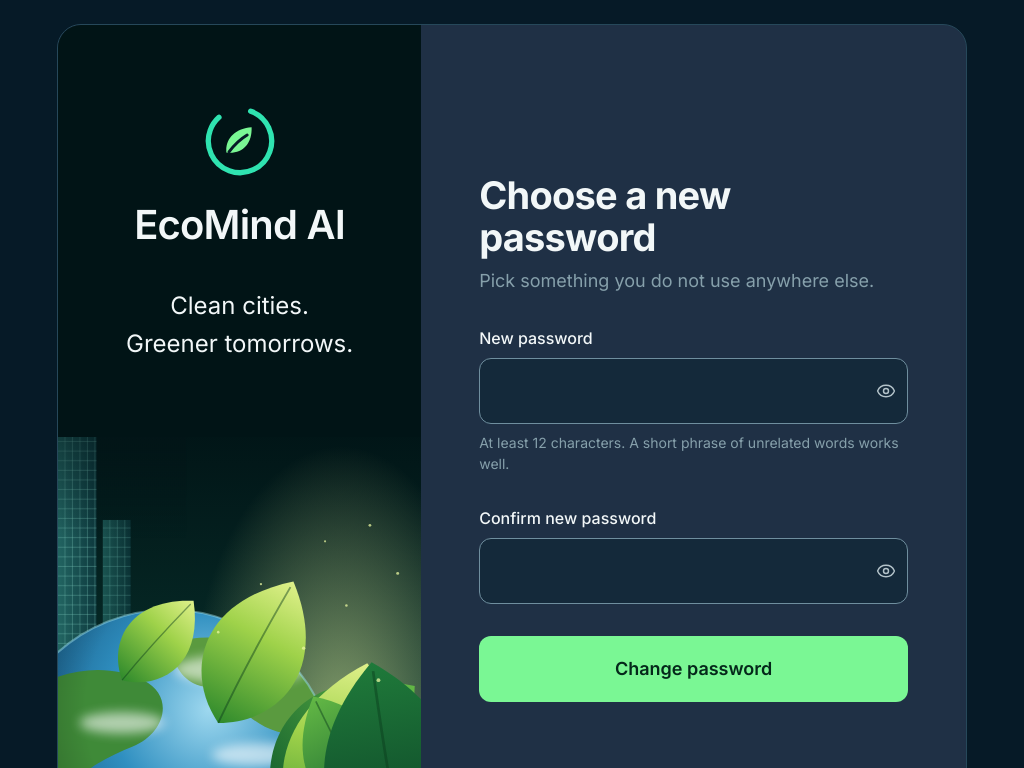
reset password › reads the token from the fragment, removes it from the address bar and submits the new password
This screenshot has width=1024, height=768.
Type "a brand new passphrase" into the password field labelled "New password" at (694, 391), box [479,358,908,424]
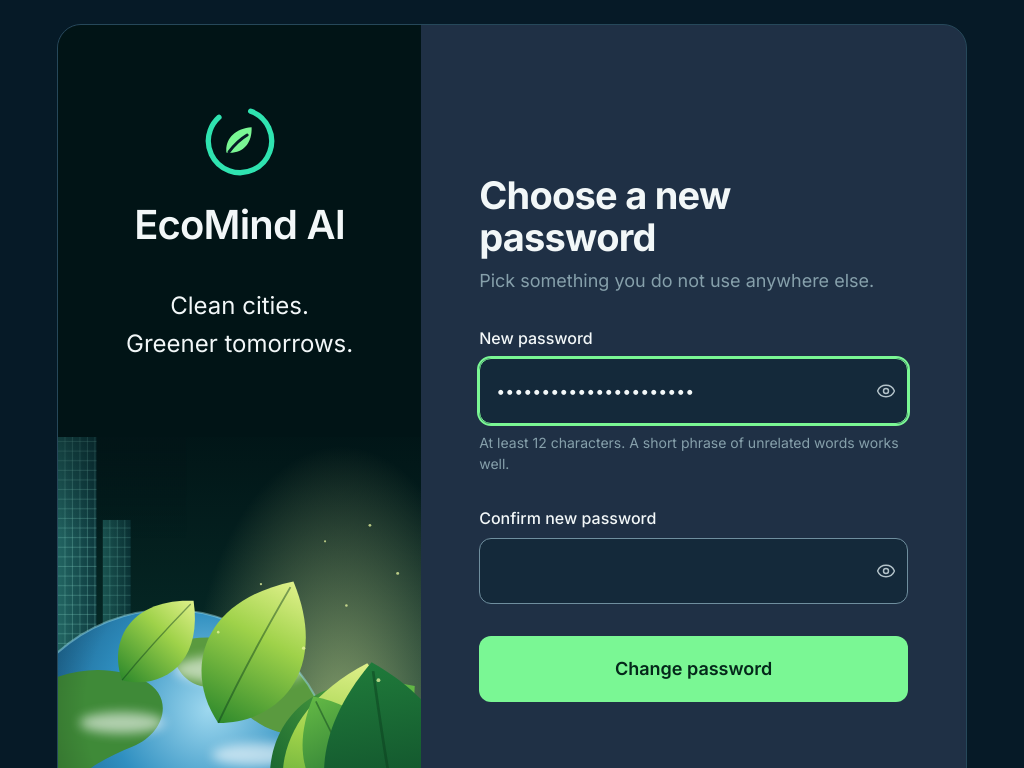
Type "a brand new passphrase" into the password field labelled "Confirm new password" at (694, 571), box [479,538,908,604]
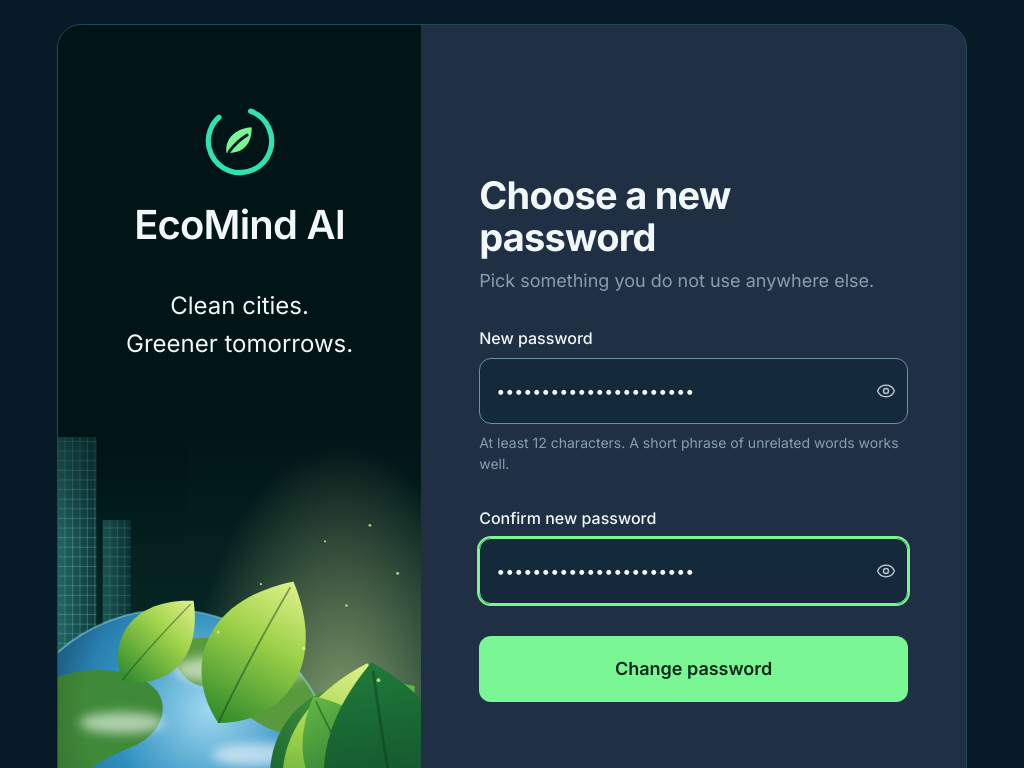
Click the button "Change password" at (694, 669), box [479,636,908,702]
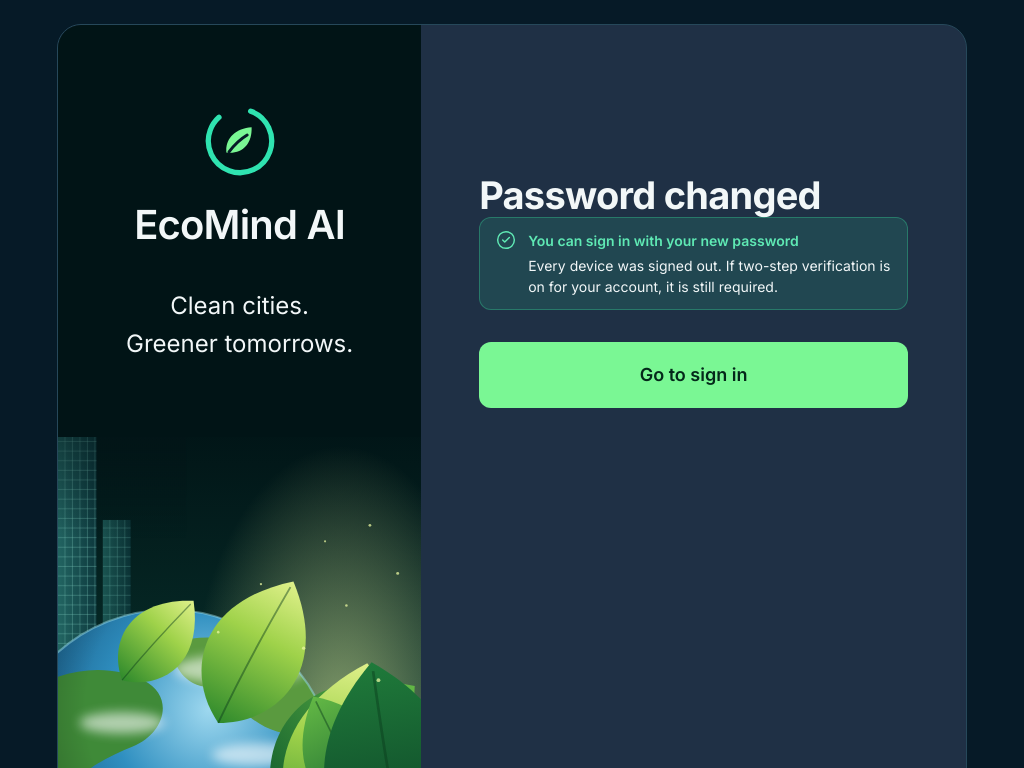
Result: the heading "Password changed" is shown at [479,172,821,218]
